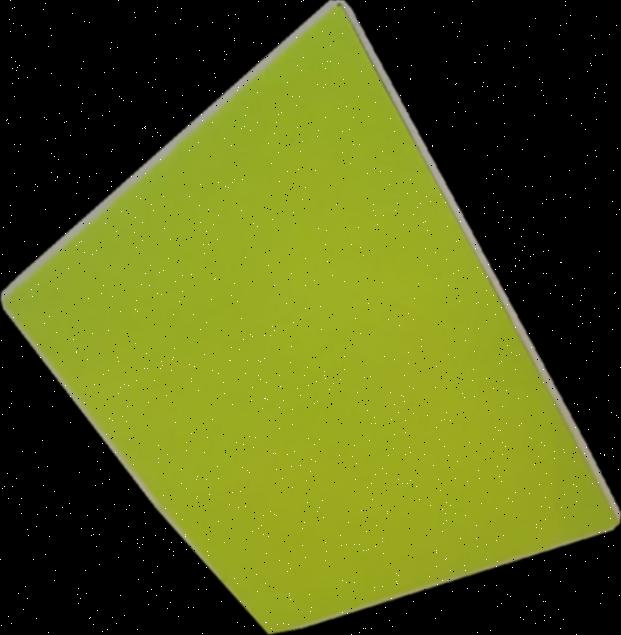Boxes: (1, 0, 621, 635)
